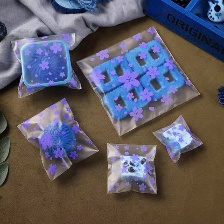snack: (71, 22, 206, 140), (12, 92, 102, 184), (5, 27, 85, 102), (100, 137, 162, 200), (148, 110, 207, 166)
